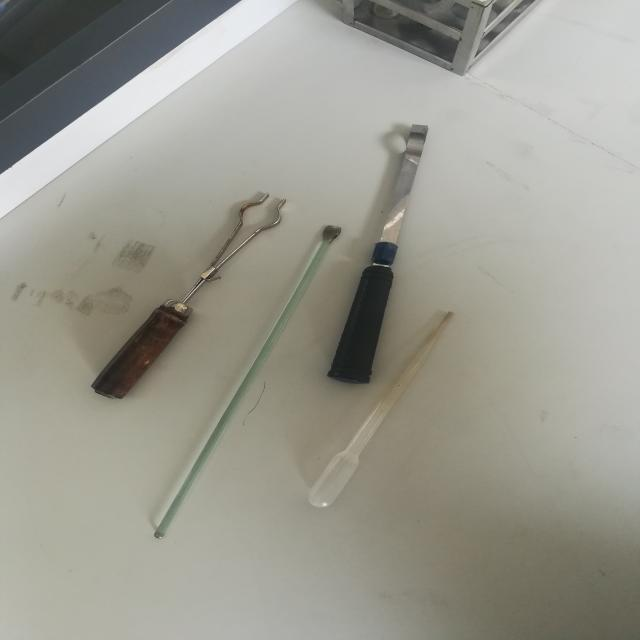Glass_Rod: (137, 214, 357, 559)
Pipette: (291, 292, 483, 533)
TestTube_Holder: (69, 165, 321, 419), (310, 108, 452, 396)
